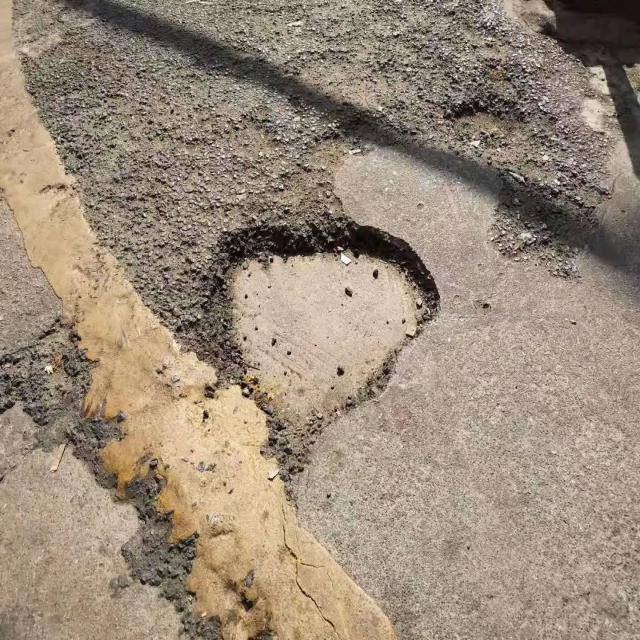Pothole: (182, 213, 444, 467), (441, 92, 531, 156)
